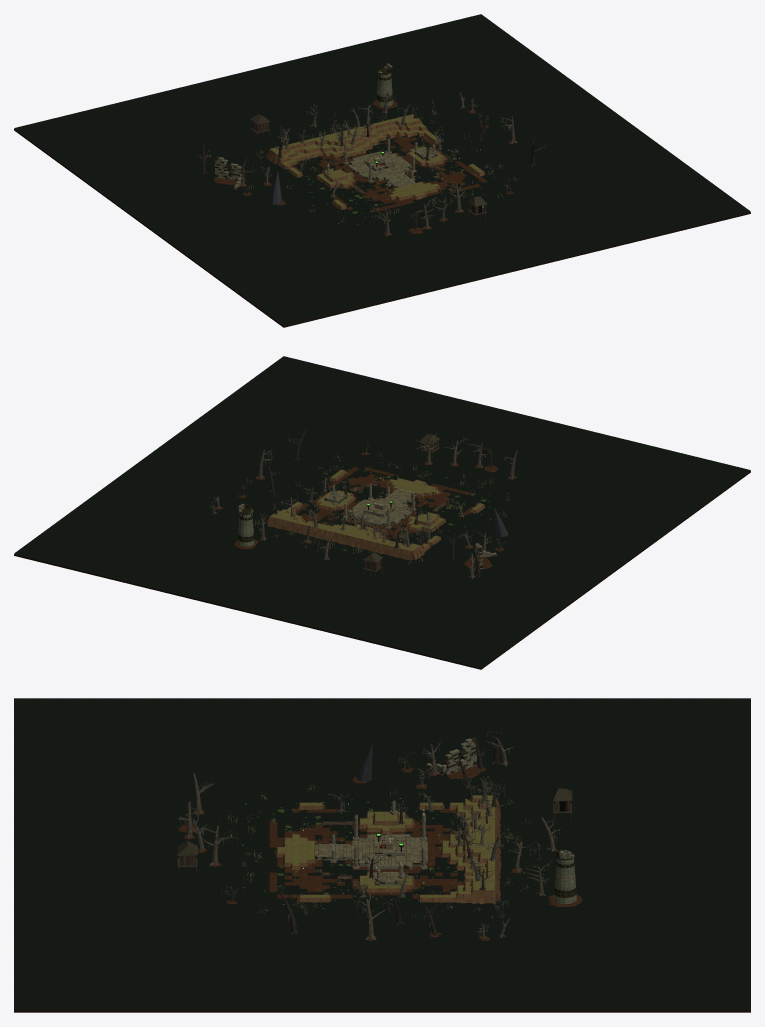
File: bog_sanctum.glb
The picture shows the model from 3 angles, top to bottom: view 1: azimuth 30°, elevation 25°; view 2: azimuth 150°, elevation 25°; view 3: azimuth 270°, elevation 25°; orthographic projection. The views are drawn at different scales.
Visible parts, largest first — view 1: FX_Water swamp, Banks, Outer bed, Swamp mud, Far trees, Fen grass.002, Flagstones, Dead trees, Far ruins, Ruin masonry, Reeds, Hanging moss (+3 smaller); view 2: FX_Water swamp, Banks, Outer bed, Far trees, Swamp mud, Dead trees, Flagstones, Fen grass.002, Ruin masonry, Reeds, Far ruins, Fen grass (+1 smaller); view 3: FX_Water swamp, Banks, Far trees, Swamp mud, Outer bed, Fen grass.002, Flagstones, Dead trees, Far ruins, Ruin masonry, Reeds, Hanging moss (+4 smaller).
Boxes of the visible parts, x1,y1,x2,y2 form: FX_Water swamp: (14,14,750,325); Banks: (240,109,517,236); Outer bed: (14,128,750,327); Swamp mud: (291,134,486,211); Far trees: (195,90,546,234); Fen grass.002: (282,129,483,206); Flagstones: (350,148,433,186); Dead trees: (274,102,459,197); Far ruins: (215,63,393,189); Ruin masonry: (325,138,437,187); Reeds: (255,110,516,224); Hanging moss: (201,92,545,219); FX_Water swamp: (14,356,750,667); Banks: (214,452,516,570); Outer bed: (14,470,750,669); Far trees: (211,429,517,578); Swamp mud: (295,467,478,544); Dead trees: (270,477,464,548); Flagstones: (326,489,411,524); Fen grass.002: (286,469,483,547); Ruin masonry: (324,483,430,528); Reeds: (255,448,514,563); Far ruins: (237,503,496,568); Fen grass: (270,510,420,550); FX_Water swamp: (14,698,750,1009); Banks: (184,767,522,940); Far trees: (178,727,560,939); Swamp mud: (269,809,464,897); Outer bed: (14,1009,750,1012); Fen grass.002: (277,802,478,897); Flagstones: (315,834,427,881); Dead trees: (332,774,507,898); Far ruins: (426,737,576,904); Ruin masonry: (314,800,427,885); Reeds: (220,783,537,918); Hanging moss: (179,730,559,937).
Size of the model in its own units: 98 by 8.93 by 98.
Materials: 38 (38 with a texture image).
